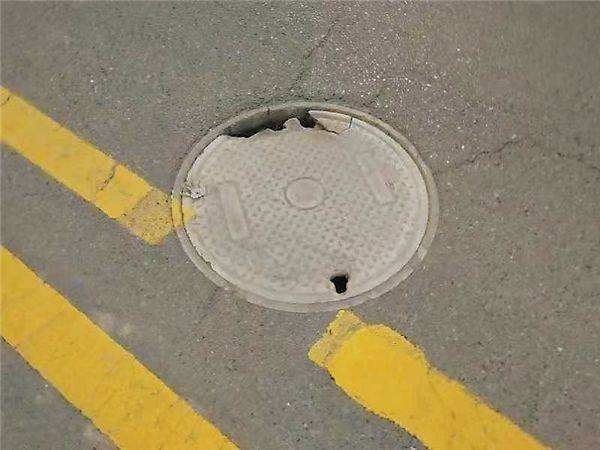broke: (172, 101, 439, 313)
